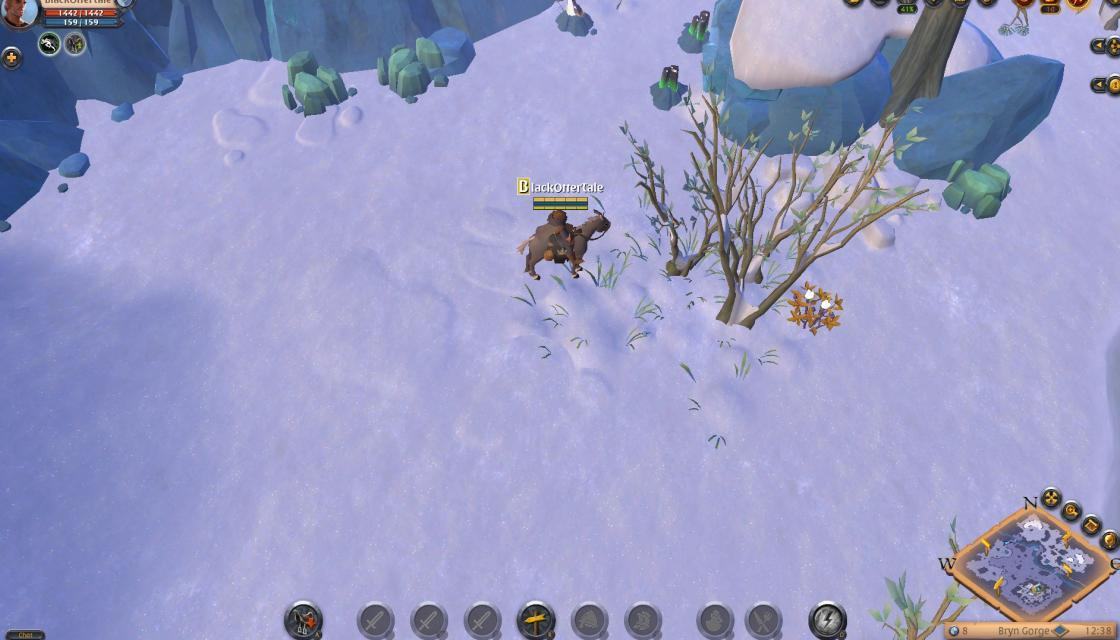copperore: (555, 0, 598, 43)
sandstone: (374, 36, 450, 108), (283, 50, 355, 119), (942, 154, 1016, 218)
tinore: (674, 2, 718, 53), (644, 65, 694, 108)
